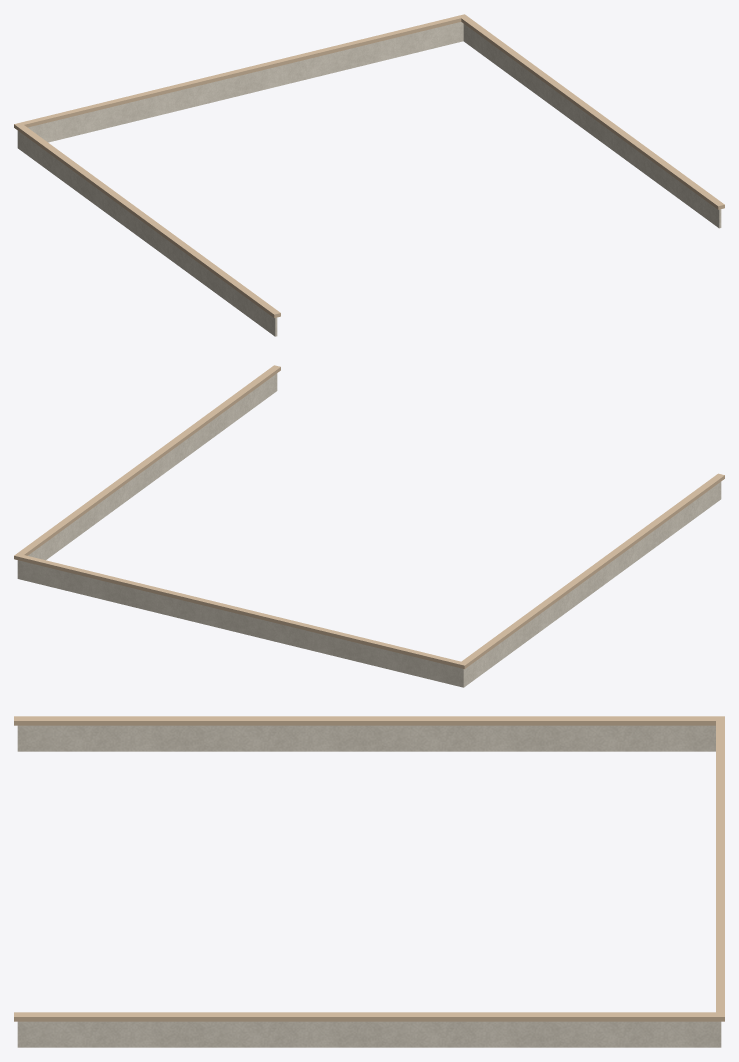
Rendered from stair_core_slab_192_192_5.glb.
The picture shows the model from 3 angles, top to bottom: view 1: azimuth 30°, elevation 25°; view 2: azimuth 150°, elevation 25°; view 3: azimuth 270°, elevation 25°; orthographic projection. The views are drawn at different scales.
Parts seen in each view (by area): view 1: stair_core_slab_192_192_5_plaster, stair_core_slab_192_192_5_floor; view 2: stair_core_slab_192_192_5_plaster, stair_core_slab_192_192_5_floor; view 3: stair_core_slab_192_192_5_plaster, stair_core_slab_192_192_5_floor.
Boxes of the visible parts, left/top/right/bottom form: stair_core_slab_192_192_5_plaster: left=17, top=22, right=721, bottom=336; stair_core_slab_192_192_5_floor: left=14, top=14, right=724, bottom=318; stair_core_slab_192_192_5_plaster: left=17, top=373, right=721, bottom=687; stair_core_slab_192_192_5_floor: left=14, top=365, right=724, bottom=669; stair_core_slab_192_192_5_plaster: left=17, top=725, right=721, bottom=1047; stair_core_slab_192_192_5_floor: left=14, top=716, right=724, bottom=1021.
Bounding box in the file's own units: 4 × 0.2 × 4.
Materials: 2 (1 with a texture image).
